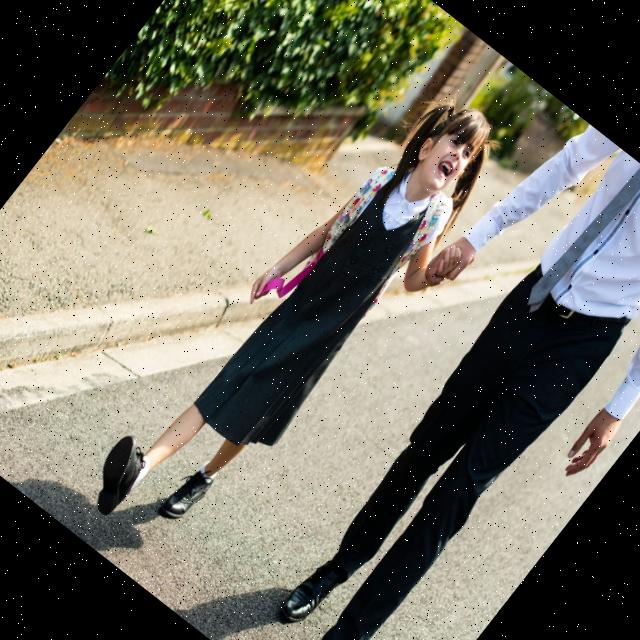Person: (163, 99, 640, 640), (78, 61, 540, 592)
